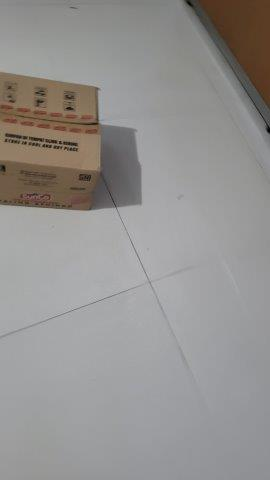kardus: (1, 69, 103, 212)
